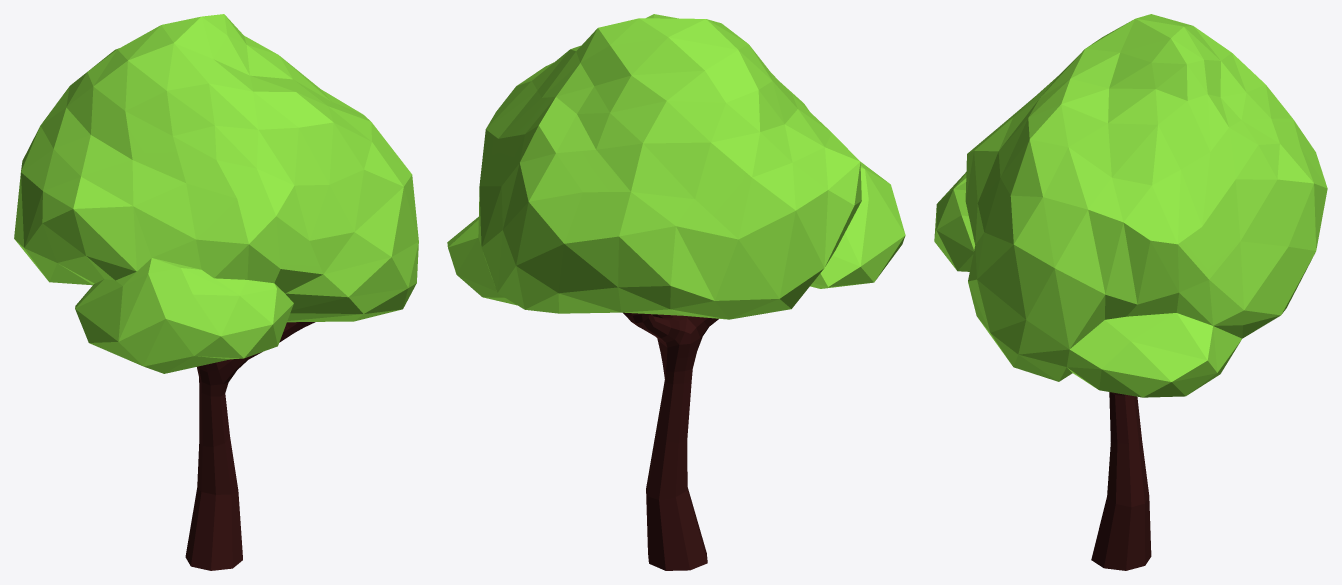
The model's file is tree.glb.
3 renders of one model, left to right at view 1: azimuth 30°, elevation 25°; view 2: azimuth 150°, elevation 25°; view 3: azimuth 270°, elevation 25°, orthographic. The views are drawn at different scales.
Visible parts, largest first — view 1: tree2_Icosphere.004; view 2: tree2_Icosphere.004; view 3: tree2_Icosphere.004.
Part boxes in pixels (x1,y1,x2,y2): tree2_Icosphere.004: (14, 14, 418, 570); tree2_Icosphere.004: (447, 14, 905, 570); tree2_Icosphere.004: (934, 14, 1327, 570).
Size of the model in its own units: 11.69 by 16.19 by 10.98.
